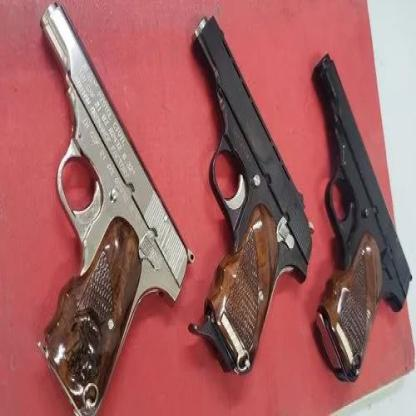handgun: (39, 0, 189, 415), (193, 12, 312, 374), (315, 54, 410, 380)
